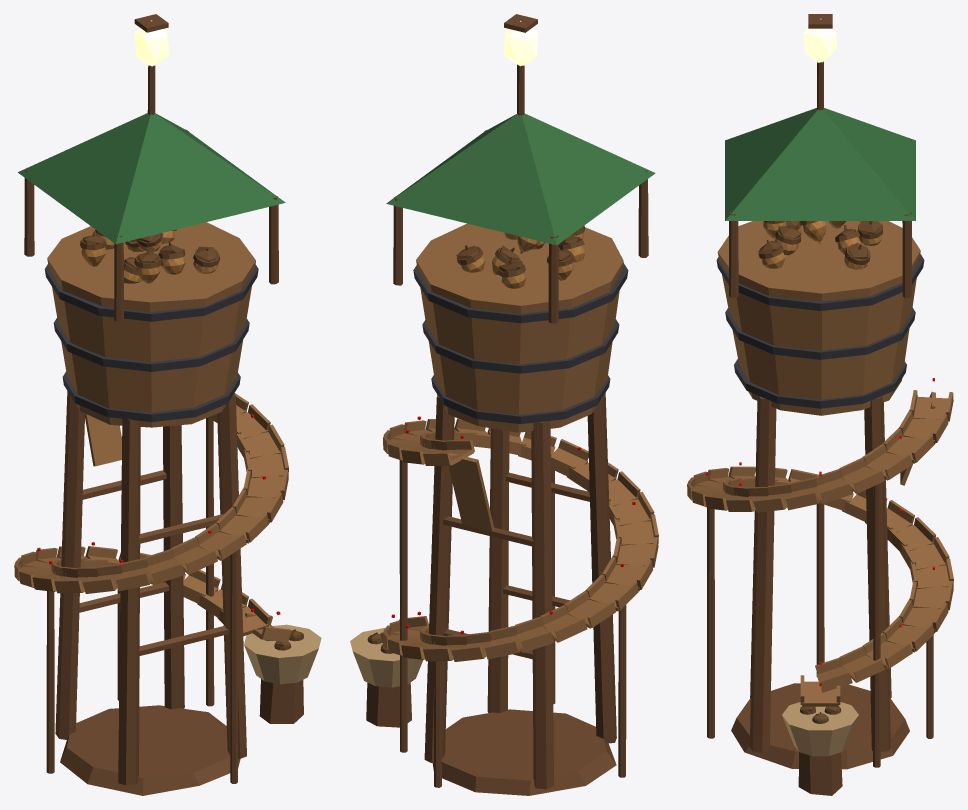
File: AcornDispenser.fbx
3 views of the same model, side by side, from view 1: azimuth 30°, elevation 25°; view 2: azimuth 150°, elevation 25°; view 3: azimuth 270°, elevation 25° (orthographic). The views are drawn at different scales.
Parts seen in each view (by area): view 1: AcornDispenser_Logs, AcornDispenser_Wood, AcornDispenser_Roof, AcornDispenser_Bands, AcornDispenser_Basket, AcornDispenser_Caps, AcornDispenser_Nuts, AcornDispenser_Lamp; view 2: AcornDispenser_Wood, AcornDispenser_Logs, AcornDispenser_Roof, AcornDispenser_Bands, AcornDispenser_Basket, AcornDispenser_Caps, AcornDispenser_Nuts, AcornDispenser_Lamp; view 3: AcornDispenser_Wood, AcornDispenser_Logs, AcornDispenser_Roof, AcornDispenser_Bands, AcornDispenser_Basket, AcornDispenser_Caps, AcornDispenser_Nuts, AcornDispenser_Lamp.
Part boxes in pixels (box(x1,y1,x2,y2)): AcornDispenser_Logs: box(24, 14, 303, 795); AcornDispenser_Wood: box(14, 222, 291, 642); AcornDispenser_Roof: box(18, 113, 285, 243); AcornDispenser_Bands: box(44, 264, 258, 421); AcornDispenser_Basket: box(244, 624, 321, 684); AcornDispenser_Caps: box(80, 229, 303, 650); AcornDispenser_Nuts: box(81, 231, 293, 650); AcornDispenser_Lamp: box(134, 20, 169, 66); AcornDispenser_Wood: box(380, 223, 658, 661); AcornDispenser_Logs: box(366, 14, 648, 795); AcornDispenser_Roof: box(386, 113, 655, 245); AcornDispenser_Bands: box(413, 263, 628, 424); AcornDispenser_Basket: box(350, 628, 423, 687); AcornDispenser_Caps: box(367, 225, 585, 653); AcornDispenser_Nuts: box(374, 232, 585, 653); AcornDispenser_Lamp: box(504, 21, 538, 66); AcornDispenser_Wood: box(687, 221, 953, 706); AcornDispenser_Logs: box(707, 14, 933, 795); AcornDispenser_Roof: box(725, 108, 915, 220); AcornDispenser_Bands: box(716, 254, 924, 408); AcornDispenser_Basket: box(782, 702, 858, 756); AcornDispenser_Caps: box(758, 221, 882, 723); AcornDispenser_Nuts: box(761, 221, 881, 714); AcornDispenser_Lamp: box(803, 18, 836, 62).
Size of the model in its own units: 13.16 by 32.72 by 11.07.
